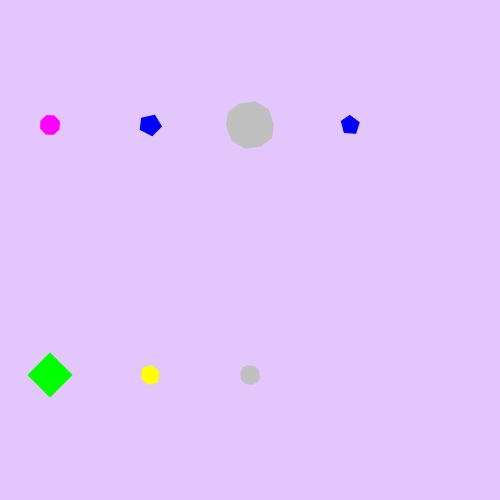decagon: (221, 99, 279, 152), (235, 361, 265, 389)
hexagon: (135, 362, 165, 388)
octagon: (35, 110, 65, 140)
pentagon: (135, 110, 165, 140), (336, 111, 364, 139)
quadrilateral: (24, 349, 76, 401)
